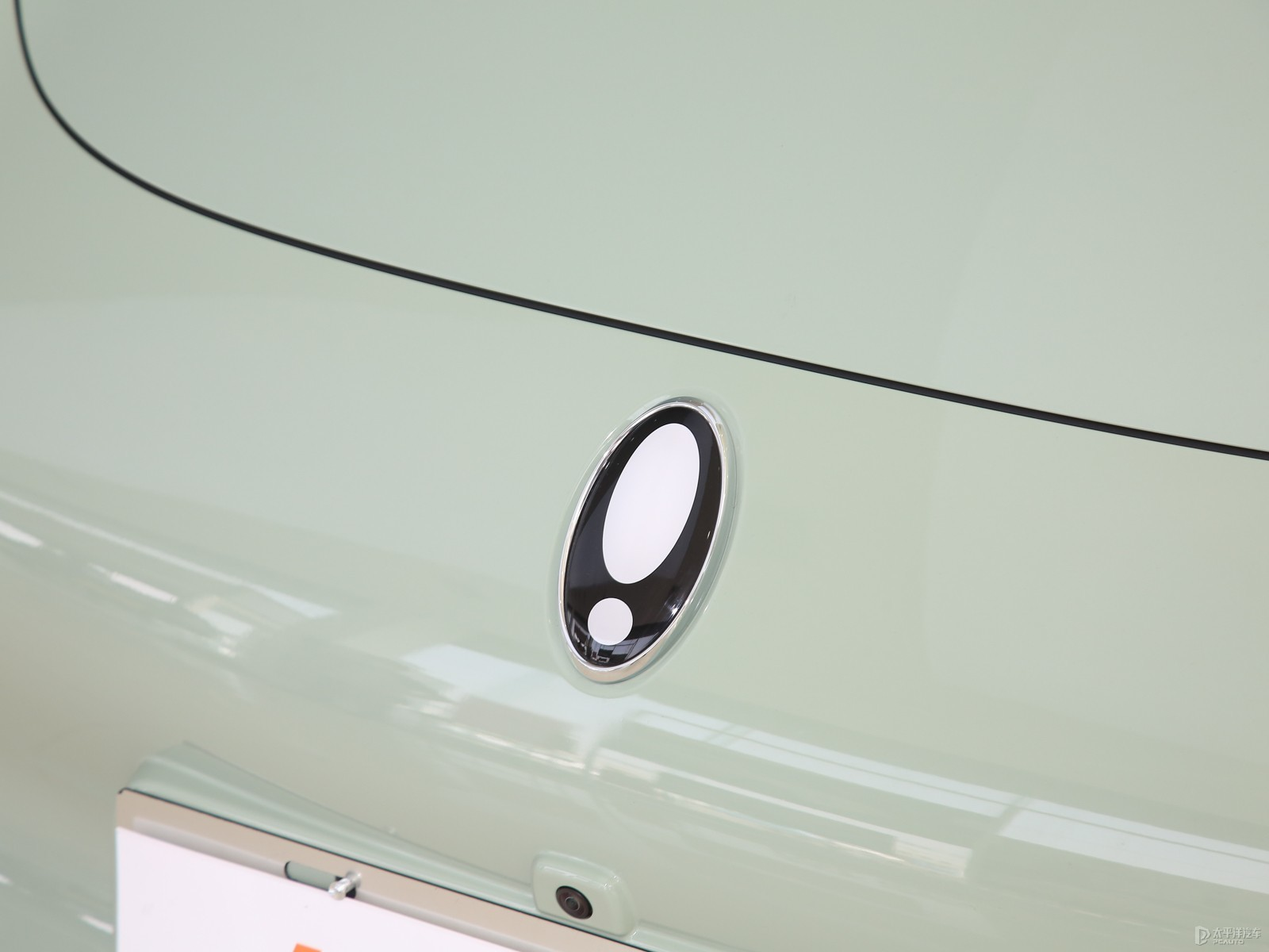ORA: (560, 397, 736, 681)
